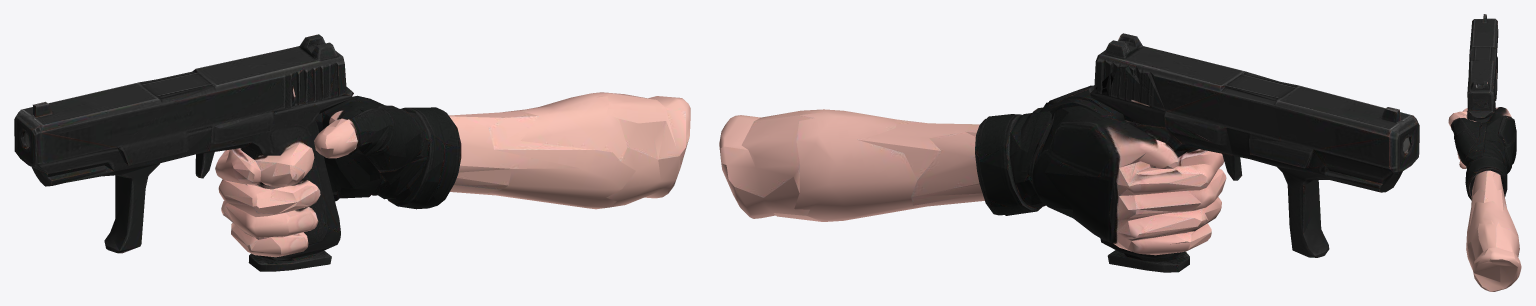
File: arm_pistol.glb
The picture shows the model from 3 angles, left to right: view 1: azimuth 30°, elevation 25°; view 2: azimuth 150°, elevation 25°; view 3: azimuth 270°, elevation 25°; orthographic projection. The views are drawn at different scales.
Visible parts, largest first — view 1: output_unwrapped; view 2: output_unwrapped; view 3: output_unwrapped.
Part boxes in pixels (<box>): output_unwrapped: <box>14,34,690,271</box>; output_unwrapped: <box>719,33,1419,272</box>; output_unwrapped: <box>1448,14,1521,291</box>.
Size of the model in its own units: 1.9 by 0.6748 by 0.3571.
Materials: 1 (1 with a texture image).
